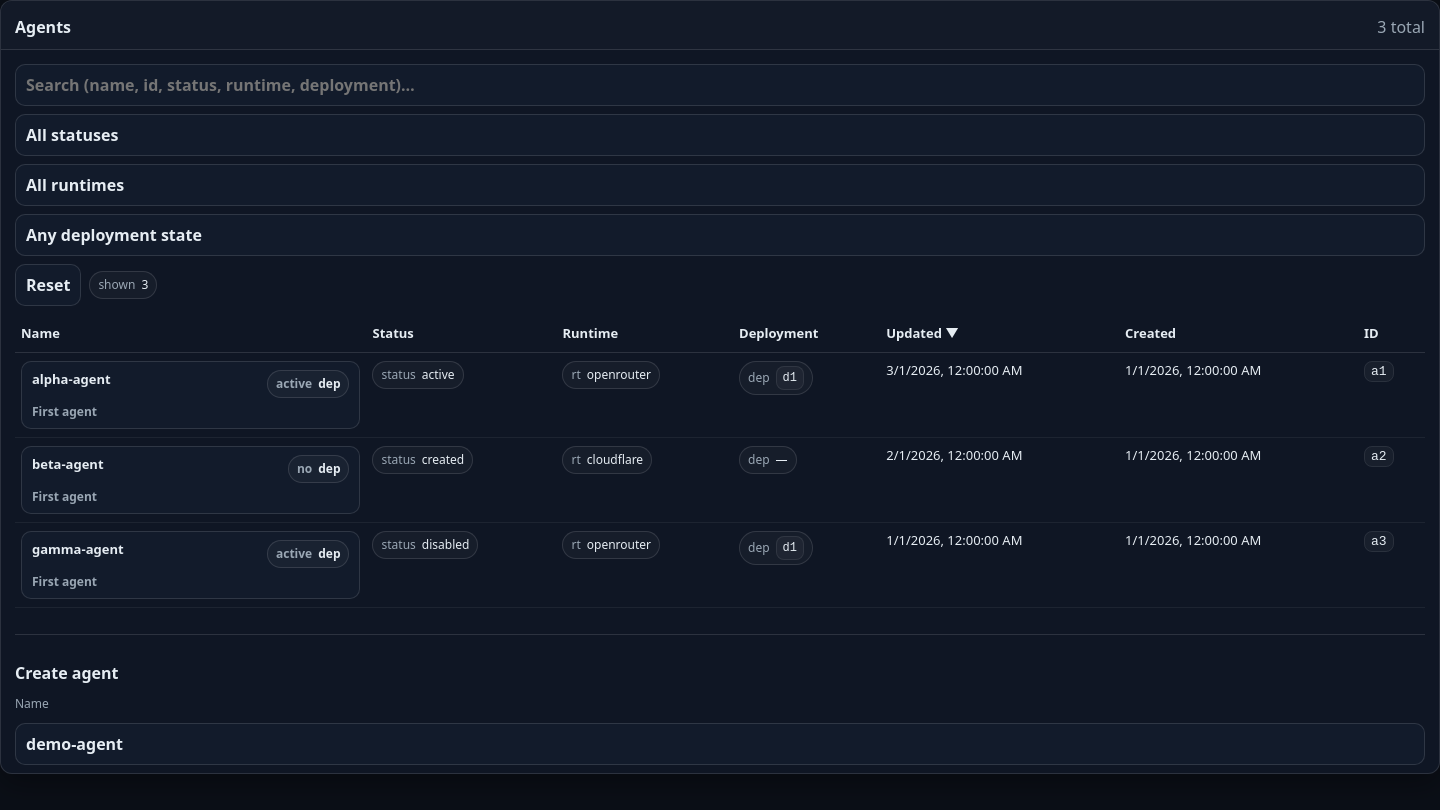
Test case: AgentsListPanel › filters by runtime
Select "cloudflare" in the dropdown named "Filter by runtime": (720, 185) top-left (15, 164), bottom-right (1425, 206)
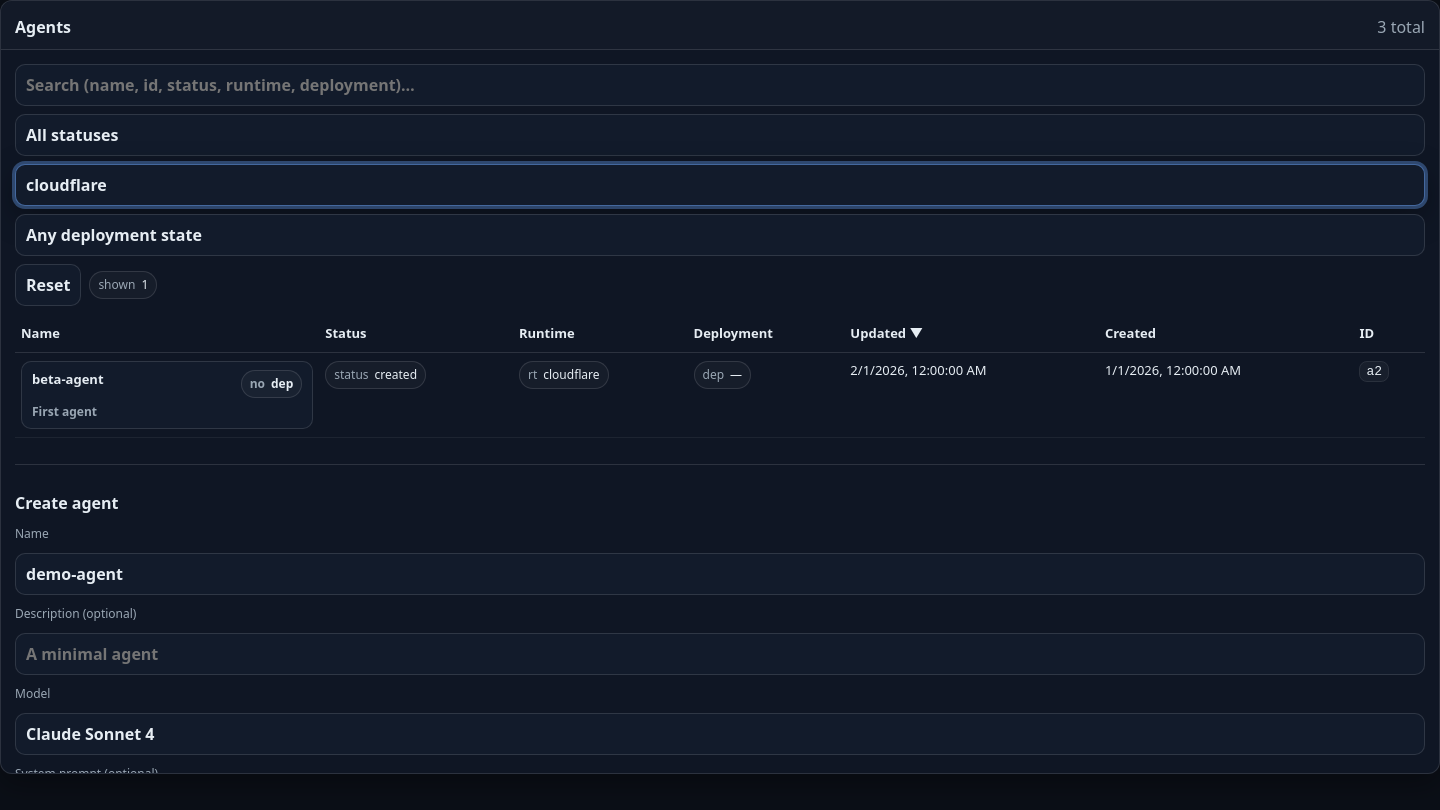
expect the text "beta-agent" is shown: met, box top-left (32, 370), bottom-right (104, 398)
expect the button "alpha-agent" is gone: met
